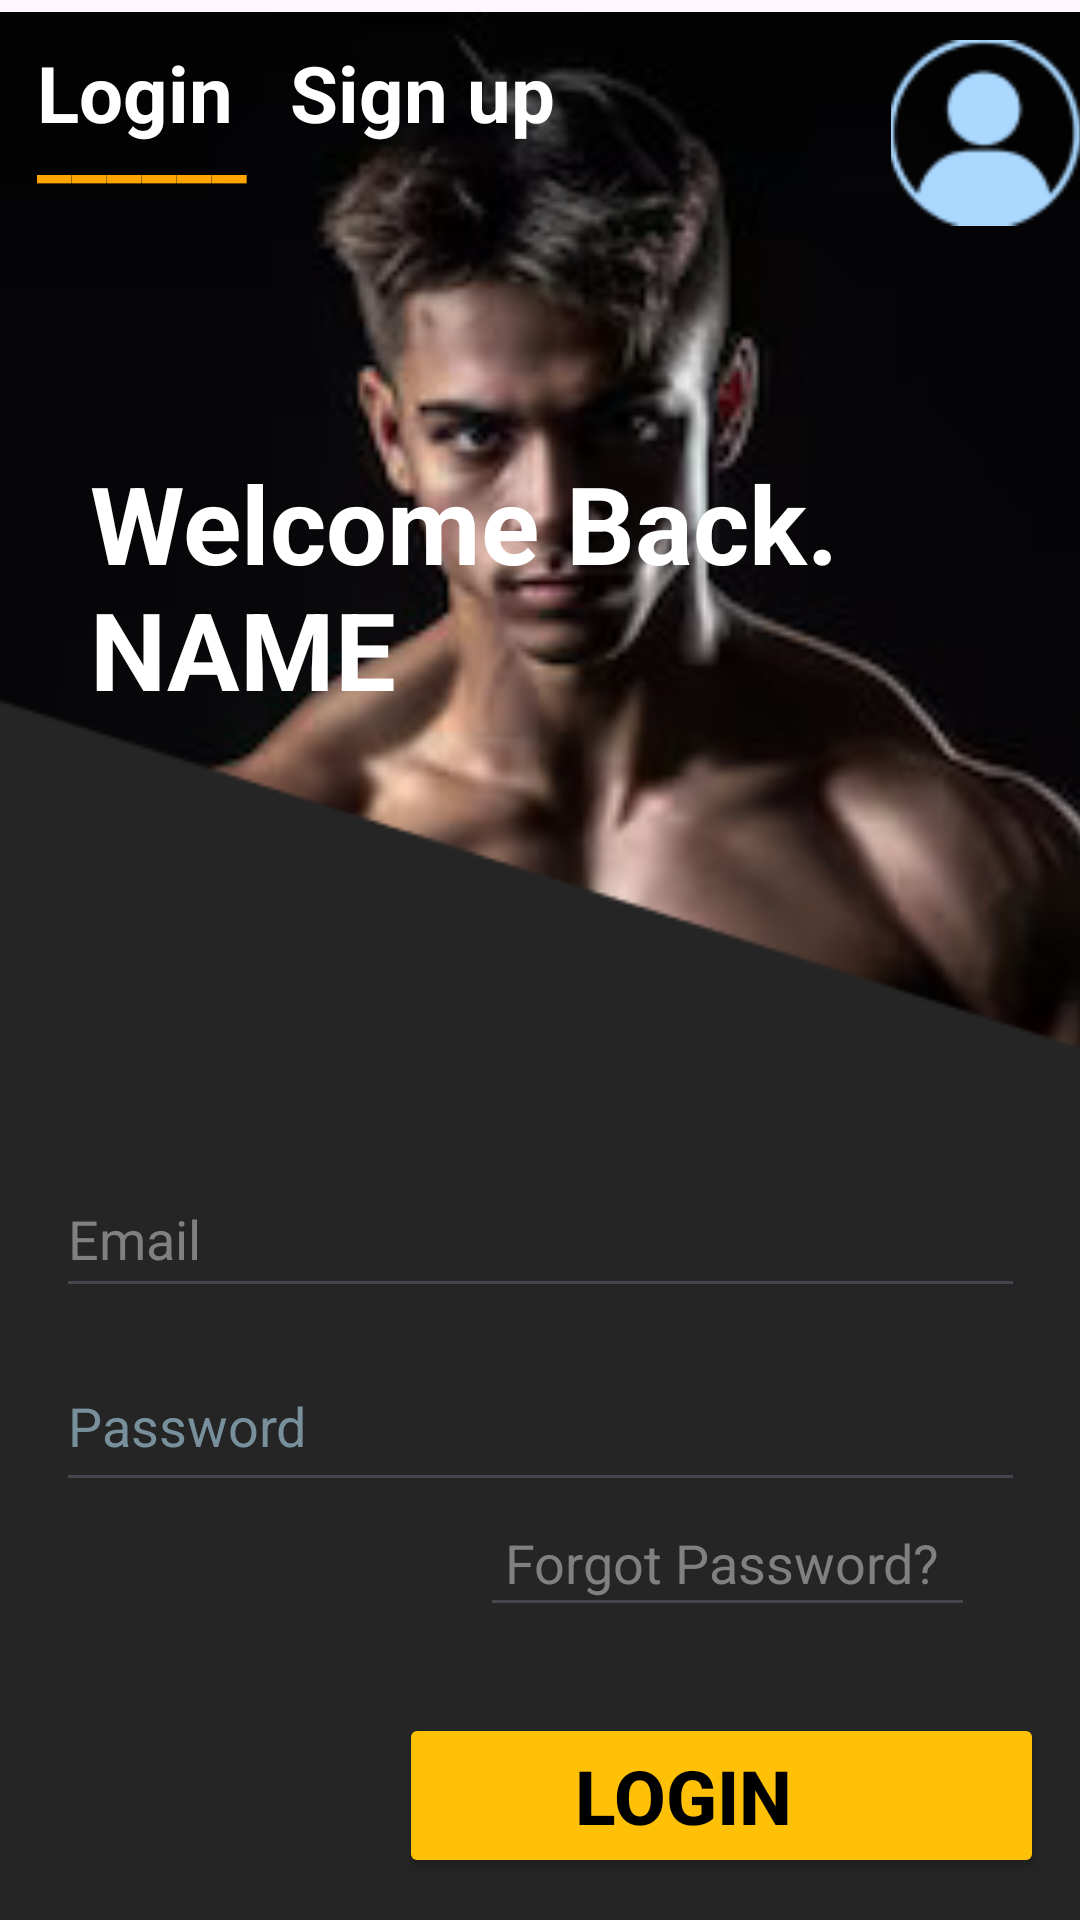

Where to tap for icons on this 1080w x 1920h app screen, as point (x, y):
login profile: point (985, 133)
